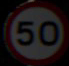Speed limit: (8, 3, 63, 58)
